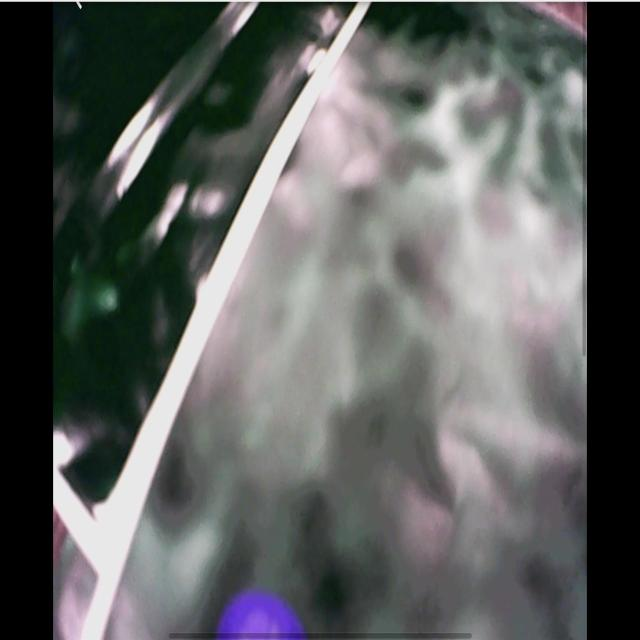ball: (218, 591, 300, 640)
